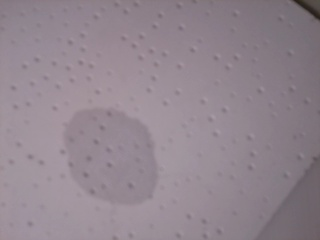Water_detected: (72, 118, 146, 191)
